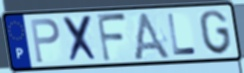A: (131, 10, 174, 60)
F: (95, 13, 129, 64)
G: (198, 8, 234, 56)
L: (166, 12, 199, 57)
P: (29, 17, 62, 65)
X: (61, 14, 100, 65)
